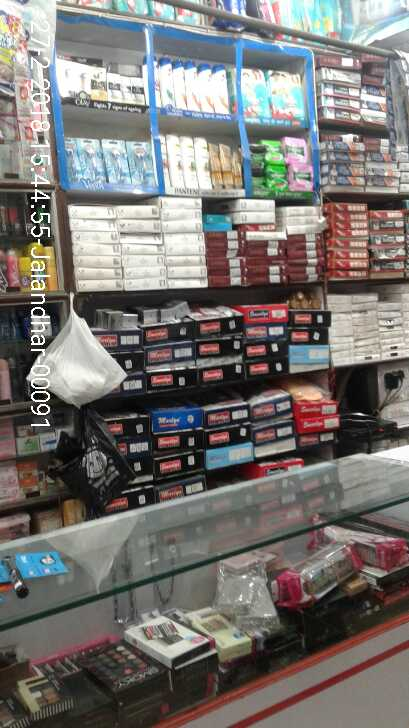venus: (105, 141, 129, 182), (129, 140, 151, 182), (83, 141, 105, 181), (66, 139, 83, 181)
